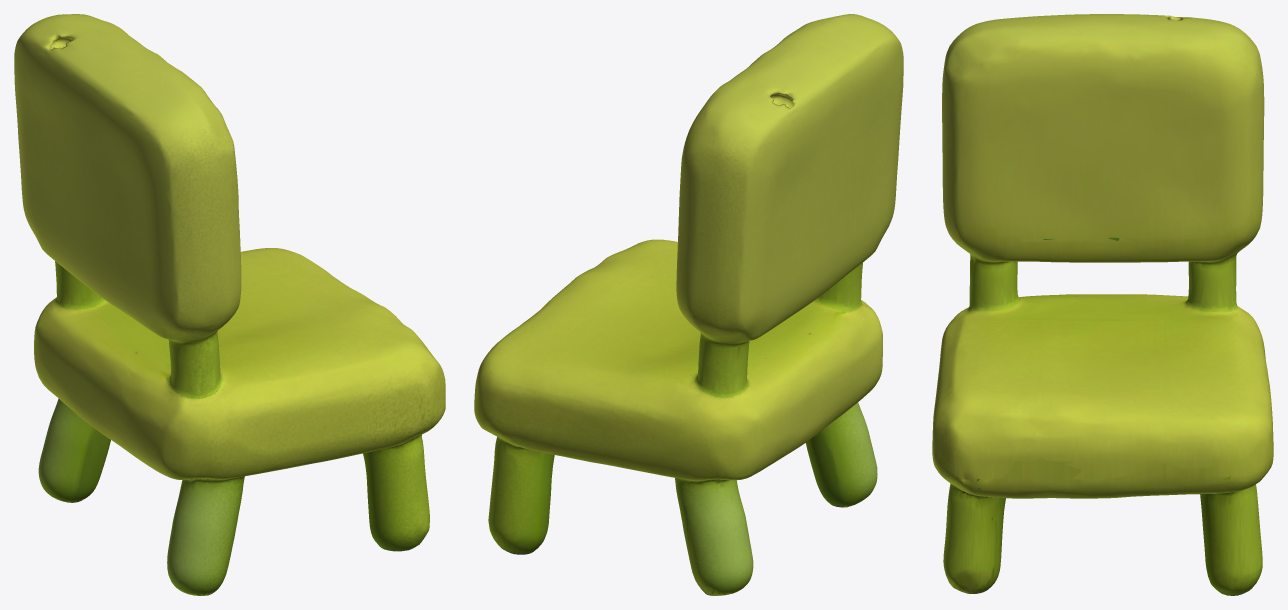
File: env_nest_chair_01.glb
3 views of the same model, side by side, from view 1: azimuth 30°, elevation 25°; view 2: azimuth 150°, elevation 25°; view 3: azimuth 270°, elevation 25° (orthographic). The views are drawn at different scales.
Visible parts, largest first — view 1: tripo_node_28f01f7f-992f-45b8-9f45-baeaff1263de; view 2: tripo_node_28f01f7f-992f-45b8-9f45-baeaff1263de; view 3: tripo_node_28f01f7f-992f-45b8-9f45-baeaff1263de.
Part boxes in pixels (x1=…): tripo_node_28f01f7f-992f-45b8-9f45-baeaff1263de: x1=14, y1=14, x2=445, y2=595; tripo_node_28f01f7f-992f-45b8-9f45-baeaff1263de: x1=474, y1=14, x2=903, y2=595; tripo_node_28f01f7f-992f-45b8-9f45-baeaff1263de: x1=932, y1=14, x2=1273, y2=595.
Size of the model in its own units: 0.6297 by 1 by 0.6528.
Materials: 1 (1 with a texture image).
